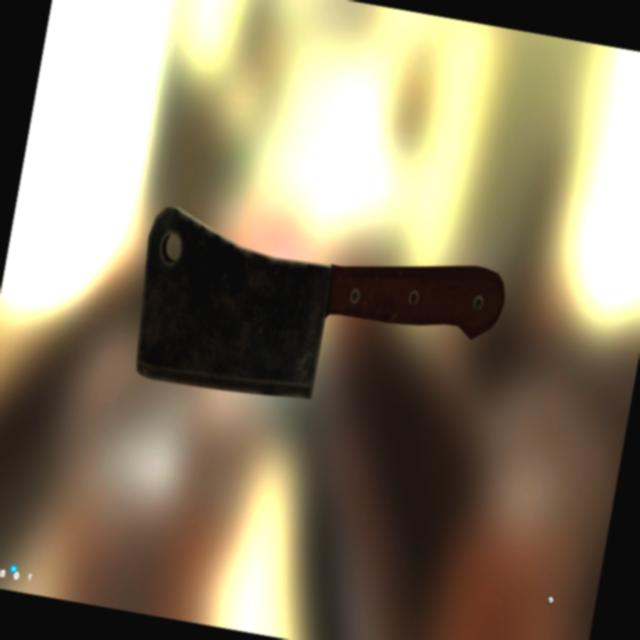cleaver: (112, 195, 516, 437)
